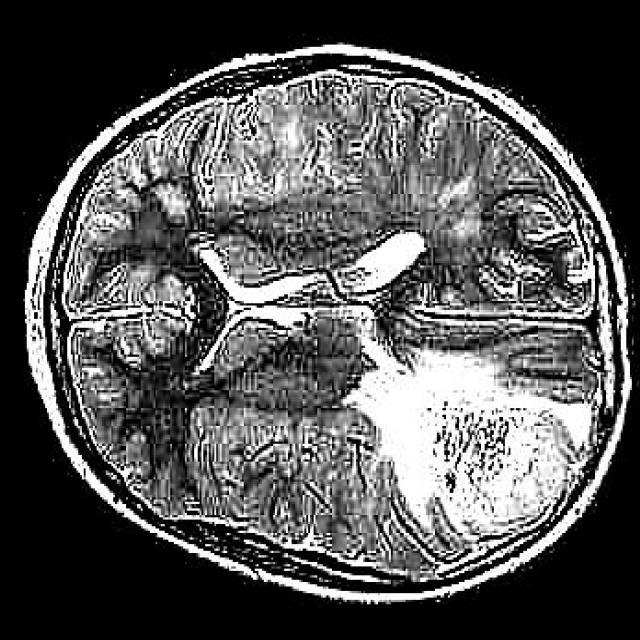tumor: (353, 343, 594, 549)
